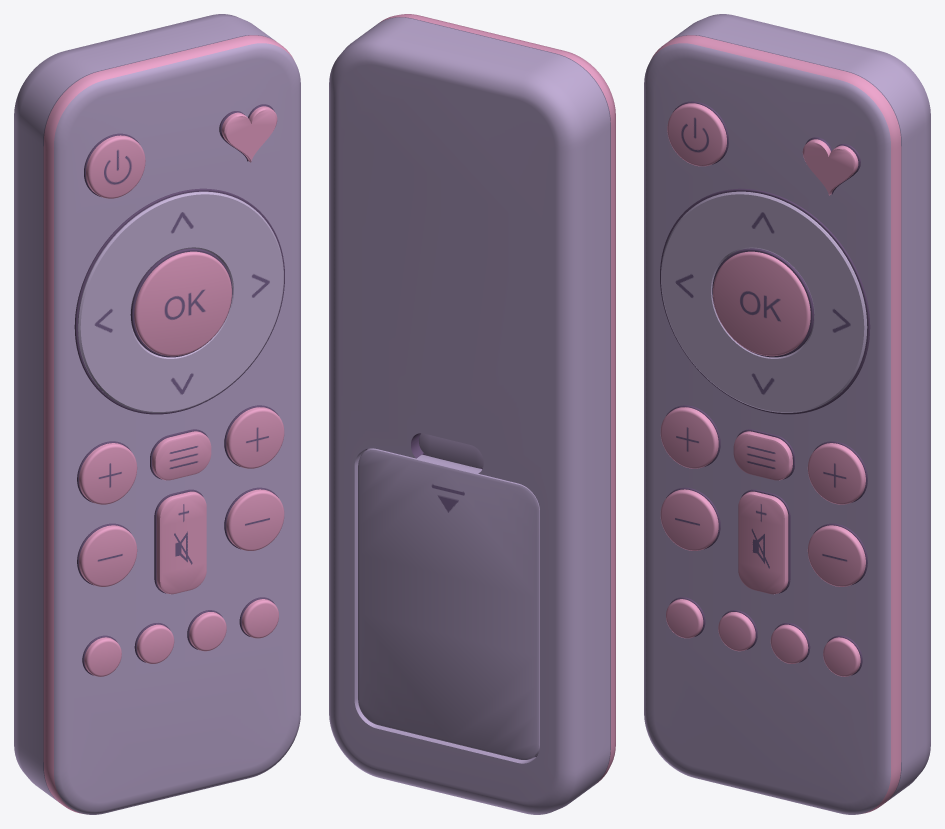
The model's file is LavenderRetroRemote_50x18x140mm.fbx.
3 views of the same model, side by side, from view 1: azimuth 30°, elevation 25°; view 2: azimuth 150°, elevation 25°; view 3: azimuth 330°, elevation 25° (orthographic).
Parts seen in each view (by area): view 1: Remote_Rolled_ABS_Shell, Remote_Direction_Ring, Remote_OK, Remote_Mute, Remote_Power, Remote_Minus_14.6, Remote_Plus_-14.6, Remote_Plus_14.6, Remote_Minus_-14.6, Remote_Menu, Remote_Heart, Remote_DPad_Gasket (+5 smaller); view 2: Remote_Rolled_ABS_Shell, Remote_Battery_Door, Remote_Battery_Release; view 3: Remote_Rolled_ABS_Shell, Remote_Direction_Ring, Remote_OK, Remote_Mute, Remote_Power, Remote_Minus_-14.6, Remote_Plus_14.6, Remote_Plus_-14.6, Remote_Minus_14.6, Remote_Menu, Remote_Heart, Remote_DPad_Gasket (+5 smaller).
Boxes of the visible parts, x1,y1,x2,y2 form: Remote_Rolled_ABS_Shell: [14, 14, 300, 814]; Remote_Direction_Ring: [77, 191, 283, 412]; Remote_OK: [134, 251, 231, 356]; Remote_Mute: [156, 491, 206, 594]; Remote_Power: [86, 135, 145, 198]; Remote_Minus_14.6: [226, 489, 284, 550]; Remote_Plus_-14.6: [79, 443, 137, 504]; Remote_Plus_14.6: [226, 407, 284, 468]; Remote_Minus_-14.6: [79, 525, 137, 586]; Remote_Menu: [152, 431, 211, 480]; Remote_Heart: [221, 106, 277, 162]; Remote_DPad_Gasket: [74, 188, 284, 414]; Remote_Rolled_ABS_Shell: [329, 14, 615, 814]; Remote_Battery_Door: [358, 448, 539, 759]; Remote_Battery_Release: [419, 433, 483, 468]; Remote_Rolled_ABS_Shell: [644, 14, 930, 814]; Remote_Direction_Ring: [661, 191, 867, 412]; Remote_OK: [713, 251, 810, 356]; Remote_Mute: [738, 491, 788, 594]; Remote_Power: [667, 103, 726, 166]; Remote_Minus_-14.6: [660, 489, 718, 550]; Remote_Plus_14.6: [807, 443, 865, 504]; Remote_Plus_-14.6: [660, 407, 718, 468]; Remote_Minus_14.6: [807, 525, 865, 586]; Remote_Menu: [733, 431, 792, 480]; Remote_Heart: [802, 139, 858, 195]; Remote_DPad_Gasket: [660, 188, 870, 414].
Size of the model in its own units: 0.05 by 0.14 by 0.018.
2 materials, 1 textured.
